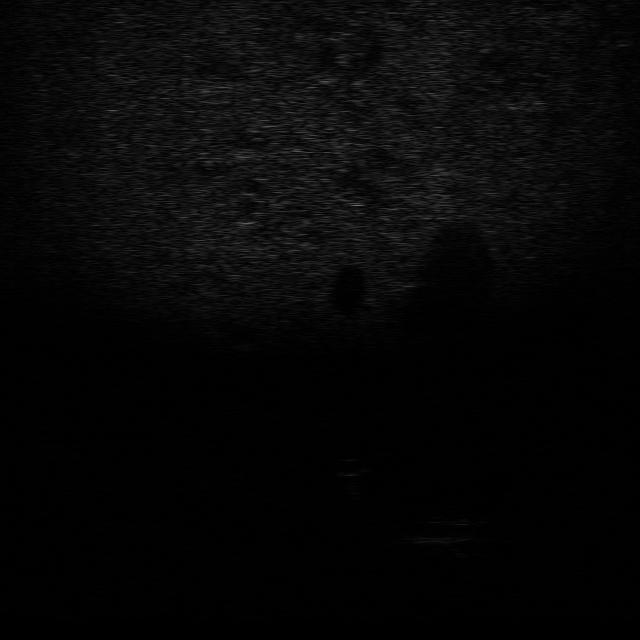ball: (327, 454, 375, 479)
metal bucket: (398, 528, 482, 553)
tyre: (424, 506, 486, 530)
